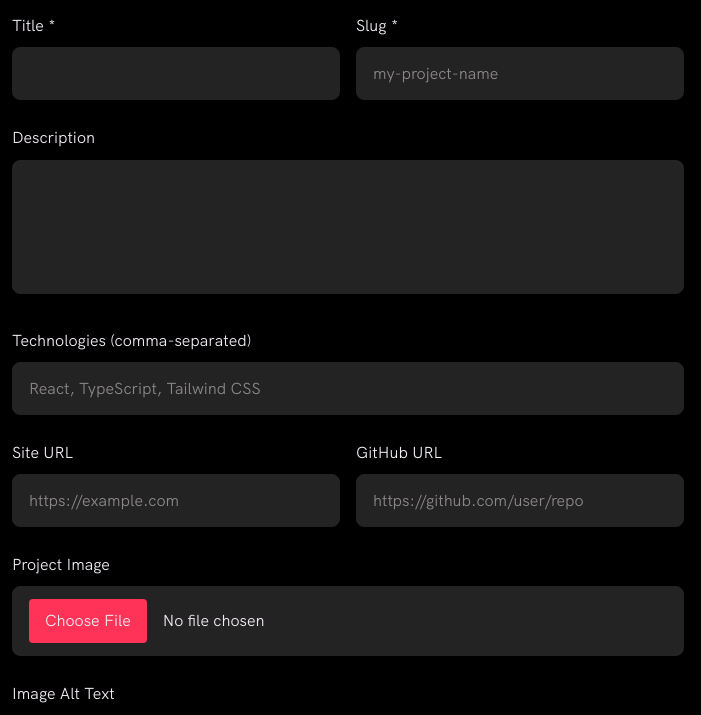
Test: ProjectForm › Slug Transformation › transforms slug to lowercase and replaces spaces with dashes
Type "My Project Name" into the field labelled "Slug *". click: (520, 74)
box: [356, 47, 684, 100]
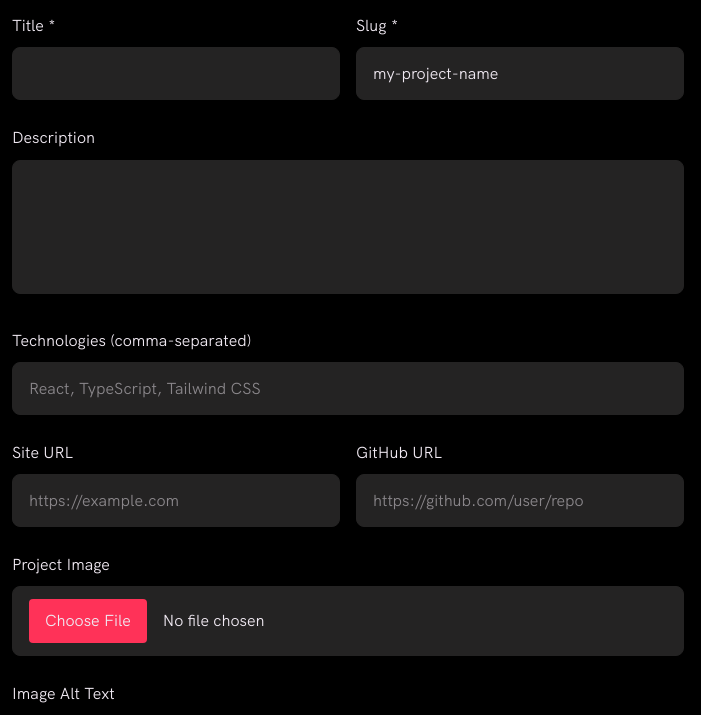
Check: the field labelled "Slug *" holds "my-project-name", box [356, 47, 684, 100]
